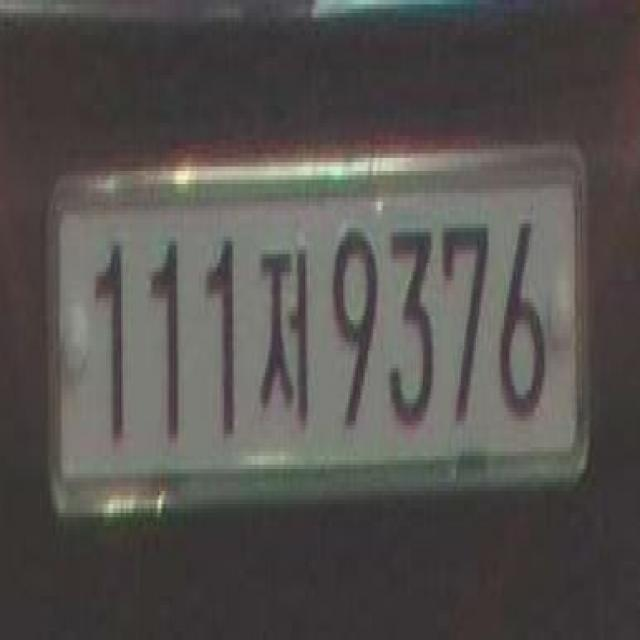illegal_plate: (48, 150, 588, 534)
